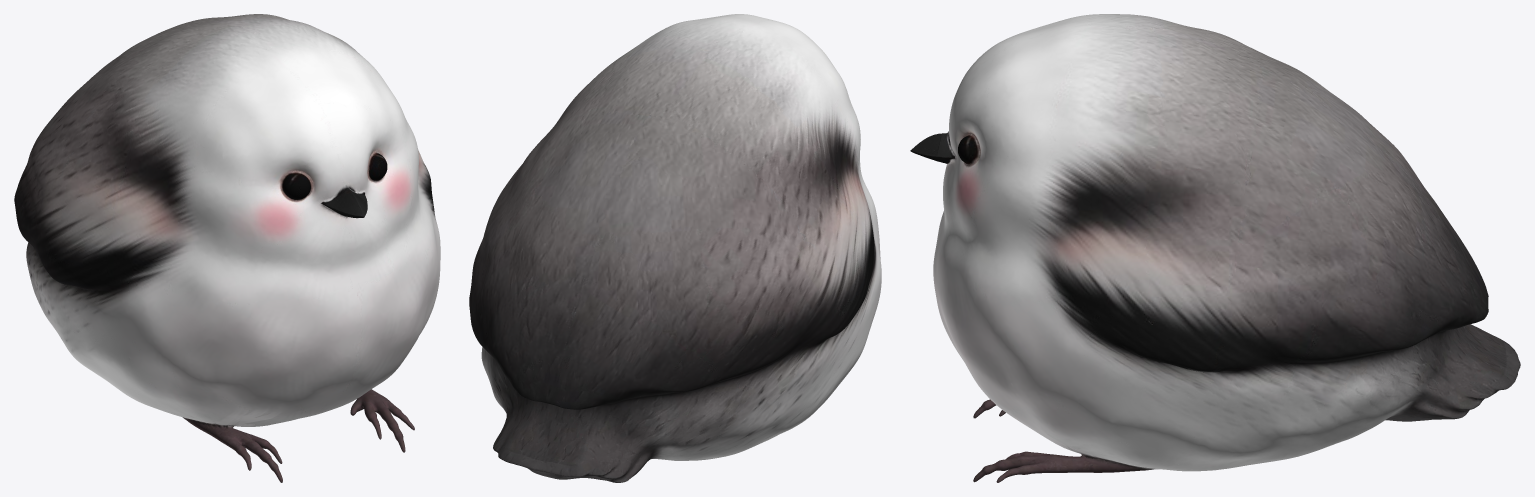
File: titmouse.glb
3 views of the same model, side by side, from view 1: azimuth 30°, elevation 25°; view 2: azimuth 150°, elevation 25°; view 3: azimuth 270°, elevation 25° (orthographic). The views are drawn at different scales.
Size of the model in its own units: 1.36 by 1.42 by 1.9.
1 material, 1 textured.
